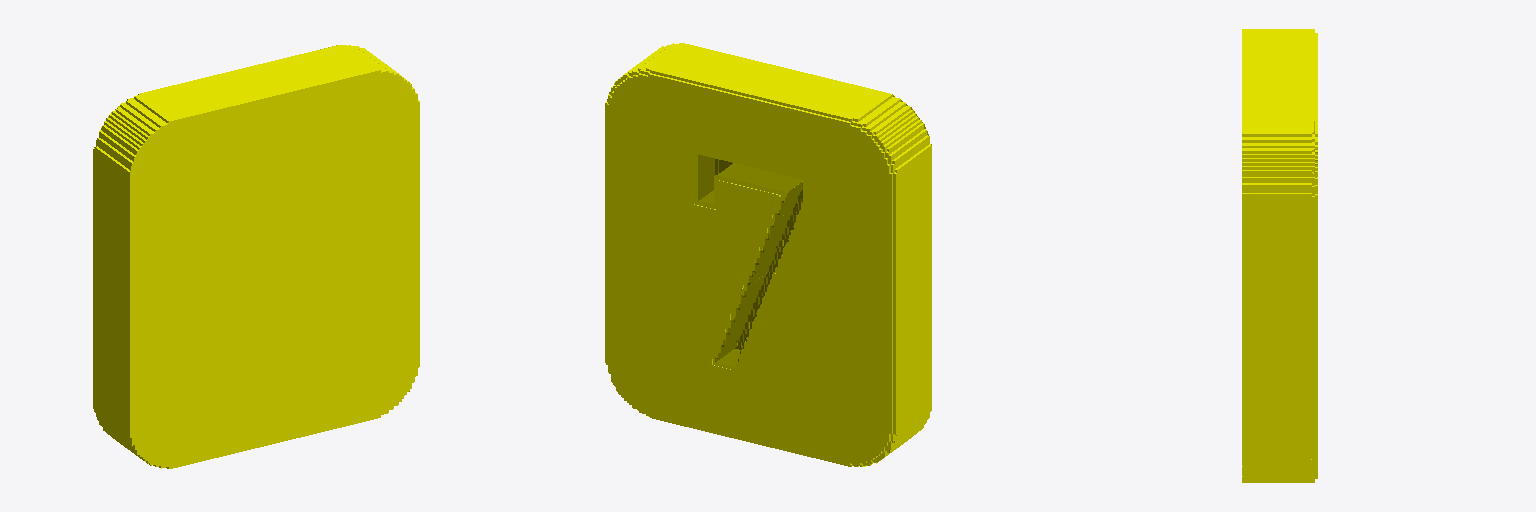
3 renders of one model, left to right at view 1: azimuth 30°, elevation 25°; view 2: azimuth 150°, elevation 25°; view 3: azimuth 270°, elevation 25°, orthographic.
Parts seen in each view (by area): view 1: SandyForms-7-v10; view 2: SandyForms-7-v10; view 3: SandyForms-7-v10.
Part boxes in pixels (x1,y1,x2,y2): SandyForms-7-v10: (93,45,419,468); SandyForms-7-v10: (605,43,931,466); SandyForms-7-v10: (1242,29,1317,482).
Size of the model in its own units: 17.52 by 20.04 by 3.95.
1 materials, 1 textured.